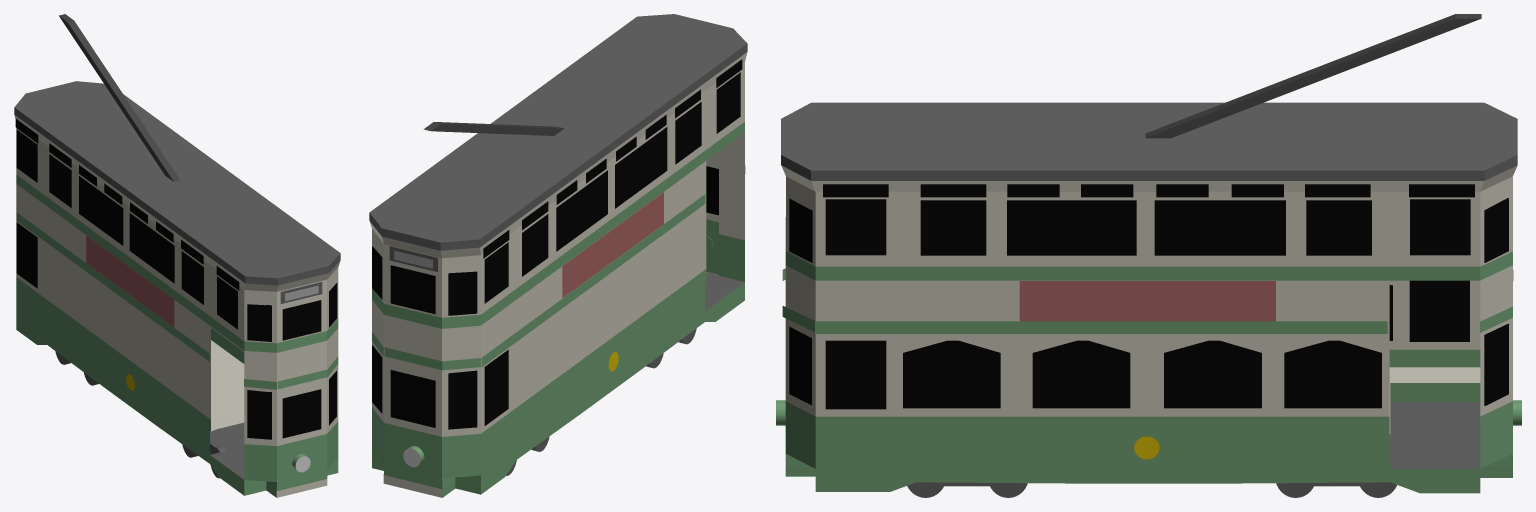
File: blackpool-standard.dae
3 renders of one model, left to right at view 1: azimuth 30°, elevation 25°; view 2: azimuth 150°, elevation 25°; view 3: azimuth 270°, elevation 25°, orthographic. The views are drawn at different scales.
Visible parts, largest first — view 1: Cube, Plane_001, Cube_001, Plane_006, Cube_003, Plane_002, Cylinder_000, Plane_011; view 2: Cube, Plane_001, Cube_002, Plane_006, Plane_002, Cube_003, Cube_004, Plane_003; view 3: Cube, Plane, Plane_006, Plane_002, Cube_003, Plane_014, Cube_002, Cube_001, Cylinder_002, Cylinder_000.
Part boxes in pixels (left/top/right/bottom): Cube: left=14, top=81, right=340, bottom=497; Plane_001: left=15, top=119, right=239, bottom=329; Cube_001: left=247, top=283, right=337, bottom=439; Plane_006: left=86, top=235, right=174, bottom=326; Cube_003: left=59, top=14, right=179, bottom=181; Plane_002: left=16, top=212, right=209, bottom=361; Cylinder_000: left=182, top=422, right=244, bottom=478; Plane_011: left=277, top=369, right=327, bottom=389; Cube: left=369, top=14, right=747, bottom=497; Plane_001: left=483, top=59, right=742, bottom=425; Cube_002: left=372, top=246, right=476, bottom=429; Plane_006: left=562, top=192, right=663, bottom=297; Plane_002: left=481, top=194, right=705, bottom=366; Cube_003: left=423, top=122, right=564, bottom=135; Cube_004: left=706, top=166, right=718, bottom=215; Plane_003: left=384, top=347, right=442, bottom=370; Cube: left=781, top=102, right=1517, bottom=493; Plane: left=823, top=184, right=1474, bottom=409; Plane_006: left=1019, top=281, right=1275, bottom=321; Plane_002: left=816, top=321, right=1387, bottom=333; Cube_003: left=1145, top=14, right=1481, bottom=138; Plane_014: left=1389, top=280, right=1469, bottom=341; Cube_002: left=1485, top=198, right=1508, bottom=405; Cube_001: left=789, top=198, right=812, bottom=404; Cylinder_002: left=1276, top=482, right=1396, bottom=497; Cylinder_000: left=907, top=482, right=1027, bottom=497.
Size of the model in its own units: 1.29 by 5.87 by 3.98.
